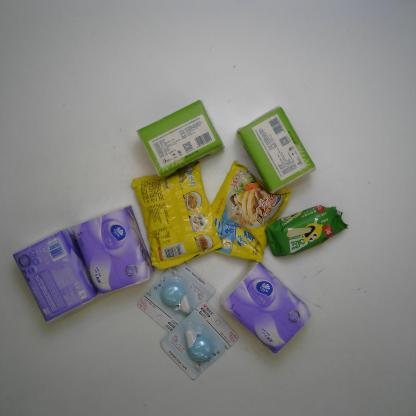Dessert: (264, 204, 350, 258)
Instant Noodles: (130, 161, 225, 270), (209, 159, 293, 263)
Stationery: (159, 299, 241, 382), (135, 261, 219, 335)
Tissue: (217, 260, 313, 357), (10, 223, 100, 324), (72, 203, 158, 297), (233, 104, 318, 196), (133, 98, 225, 180)
